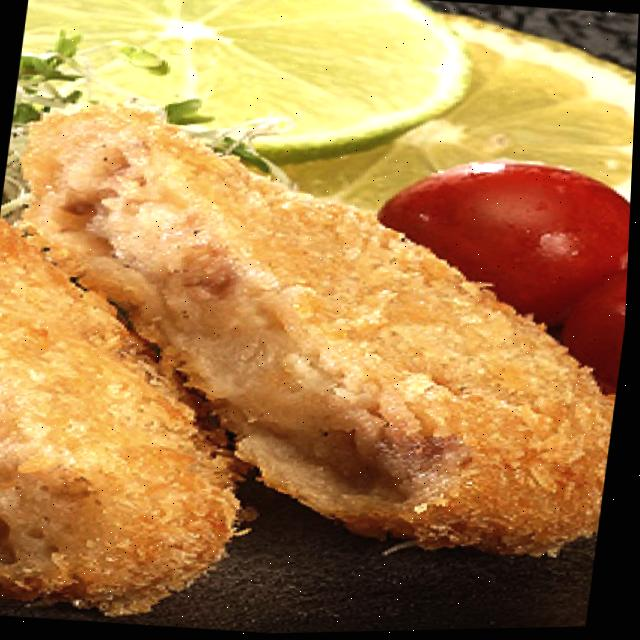炸货点心: (0, 74, 637, 640)
